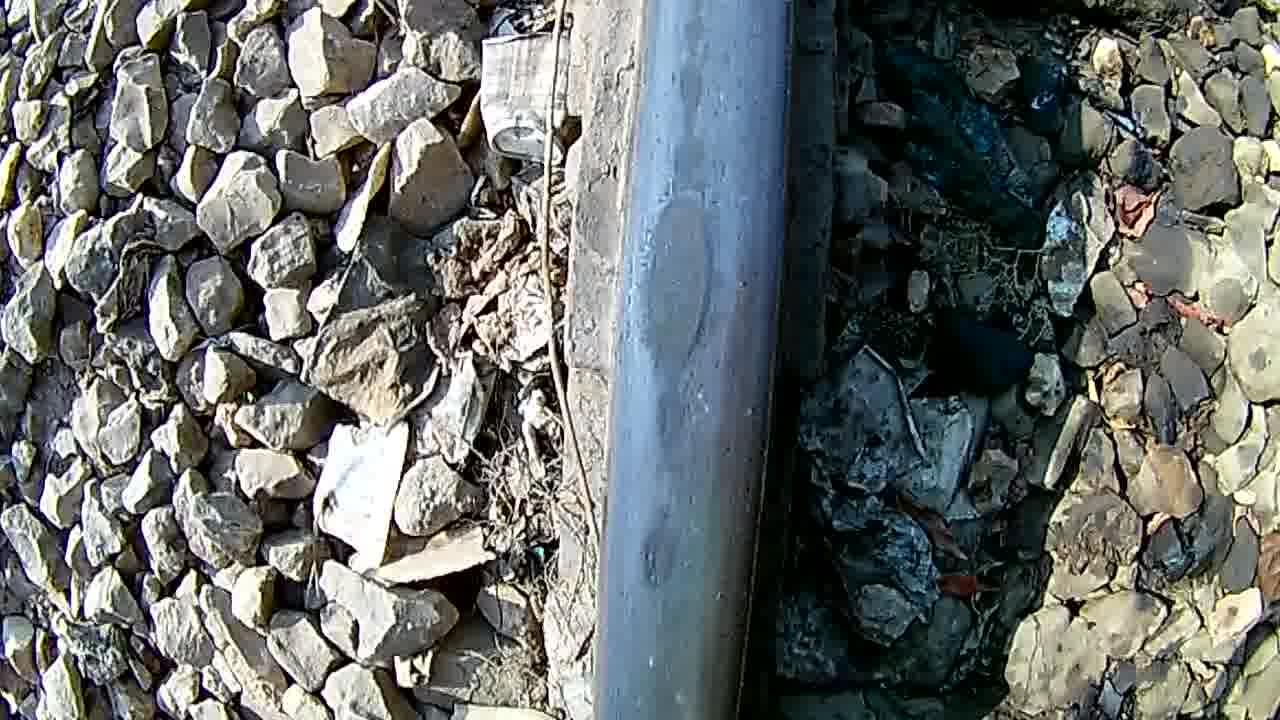bolt_missing: (601, 3, 783, 668)
